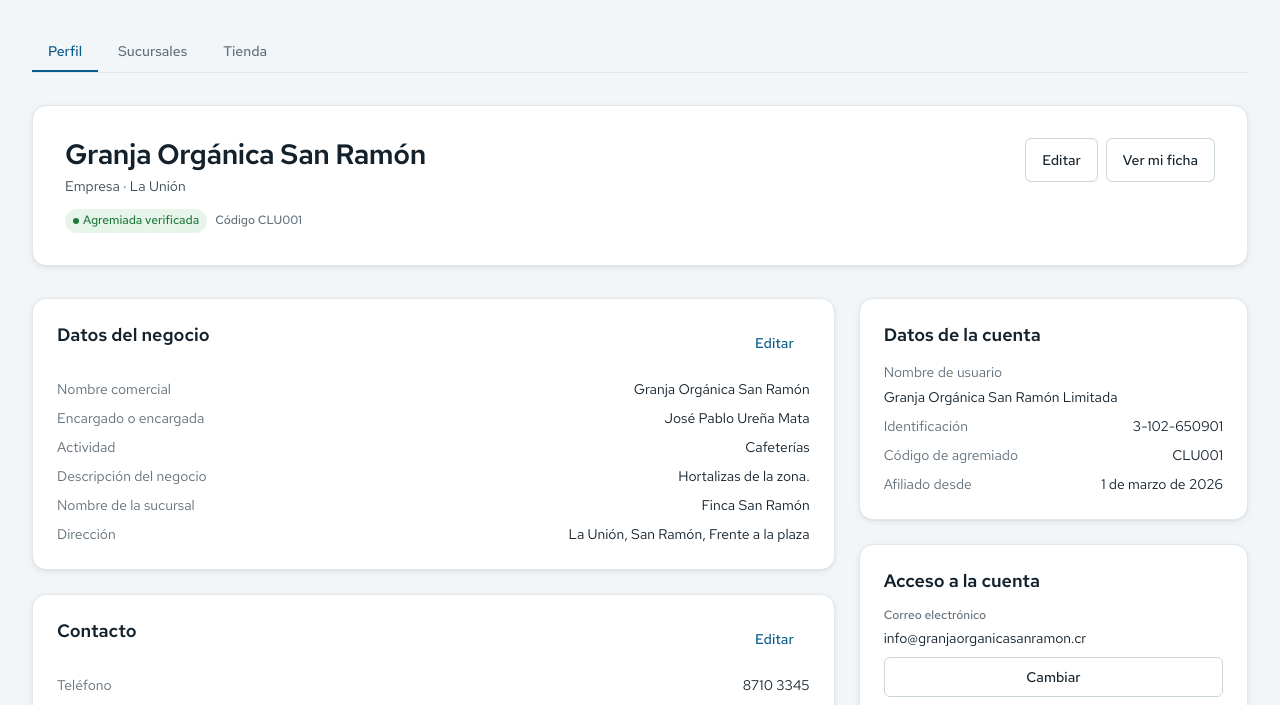
the profile screen › shows what the API refused under the field it names
Expected: the heading "Granja Orgánica San Ramón" is shown, left=65, top=138, right=426, bottom=172
Click the button "Editar" in the row of "Contacto". click: (774, 639)
box: left=739, top=619, right=810, bottom=659
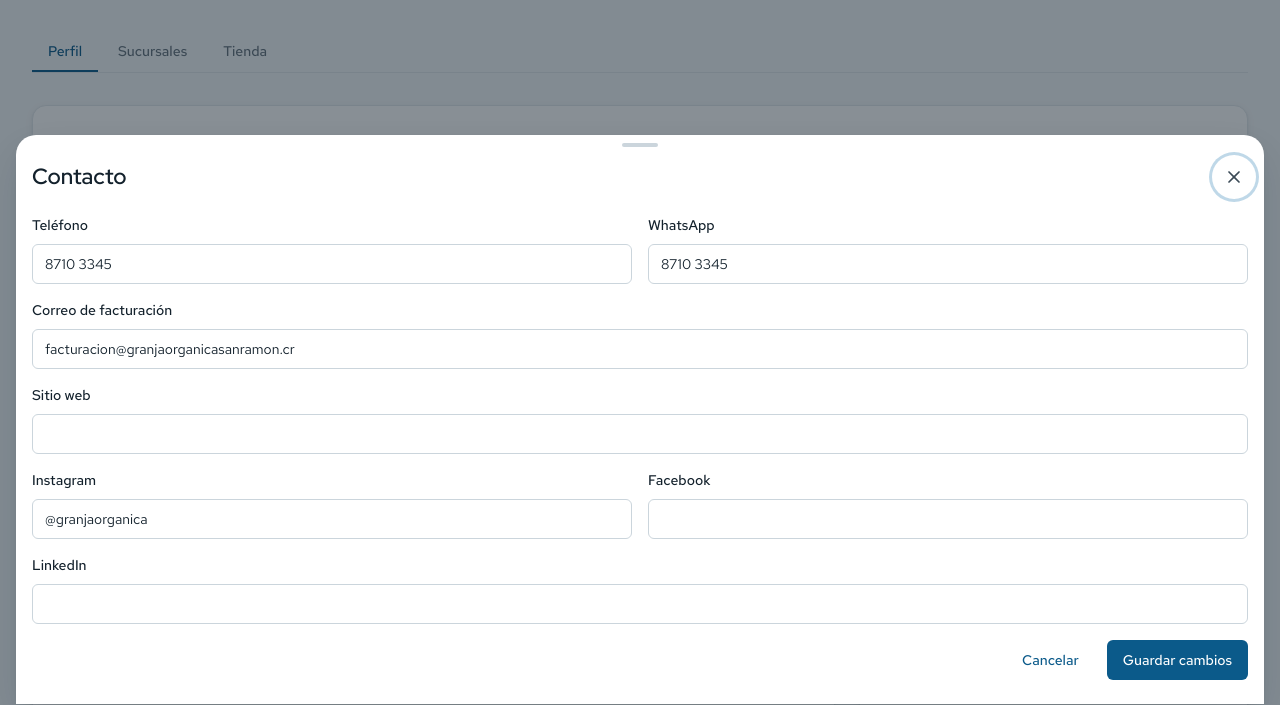
Type "no-es-un-enlace" into the field labelled "Sitio web". click: (640, 434)
box: left=32, top=414, right=1248, bottom=454
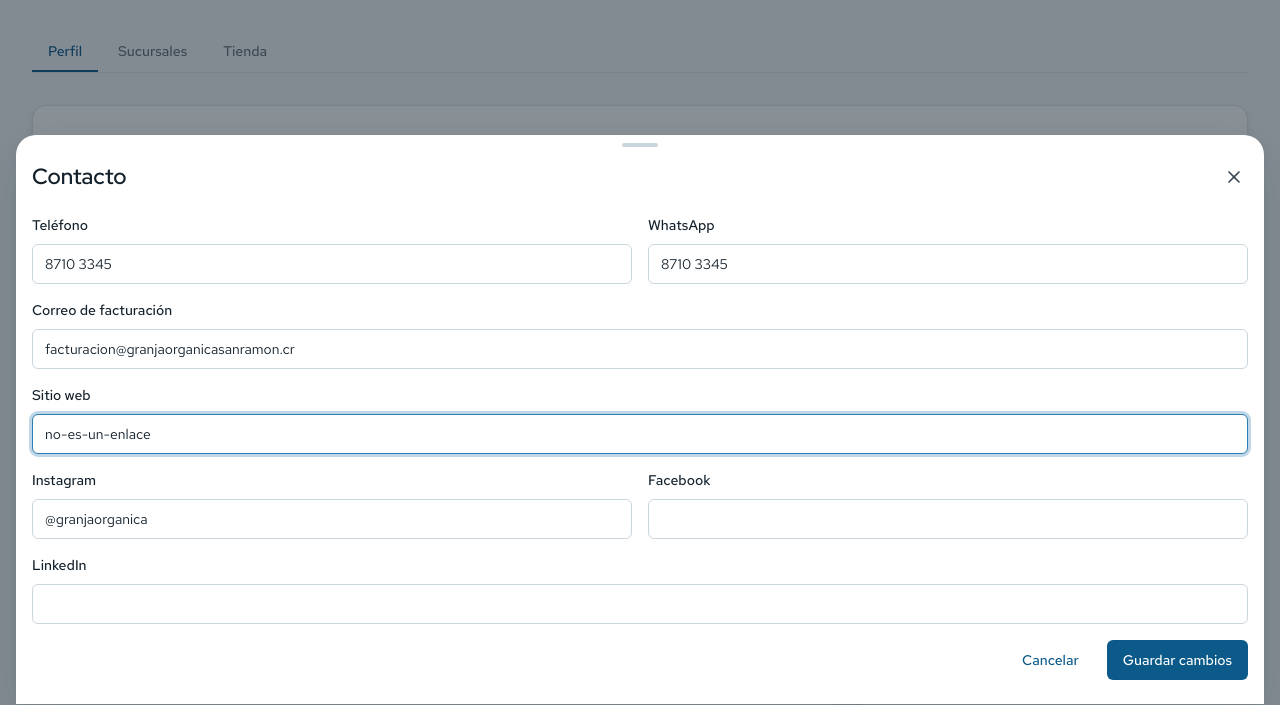
Click the button "Guardar cambios". click: (1177, 660)
box: left=1107, top=640, right=1248, bottom=680
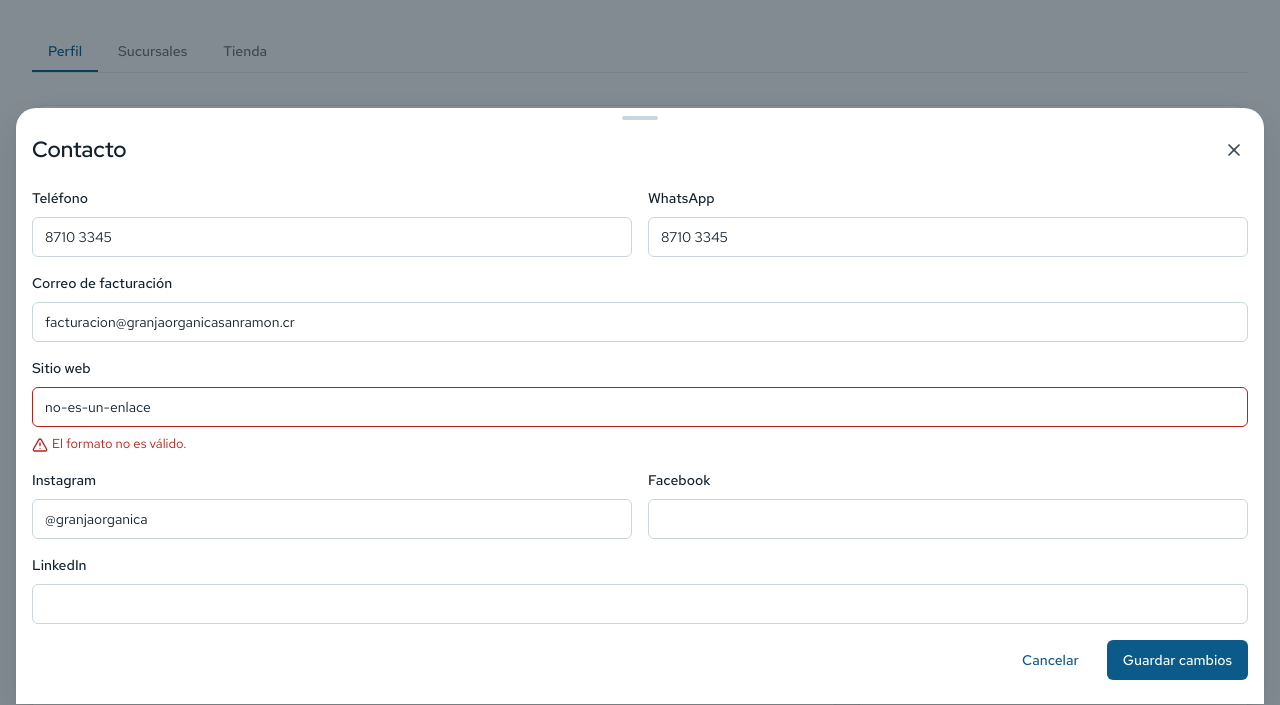
Result: the text "El formato no es válido." is shown at left=32, top=435, right=186, bottom=453
